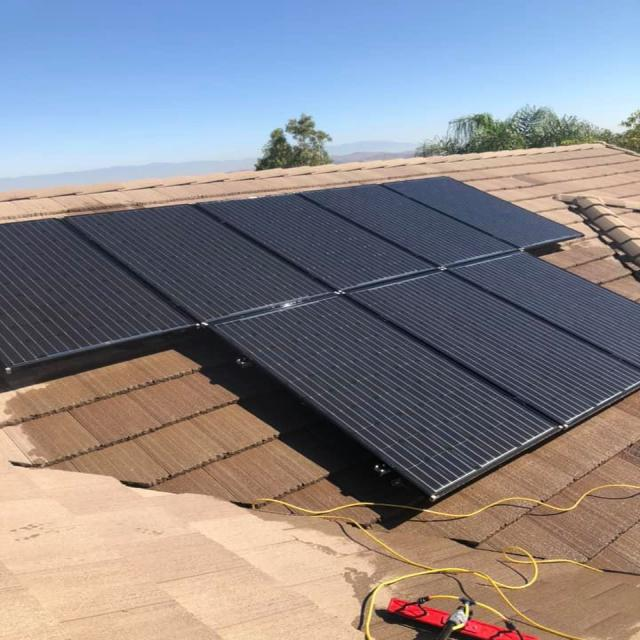clean-solar-panel: (2, 178, 638, 498)
